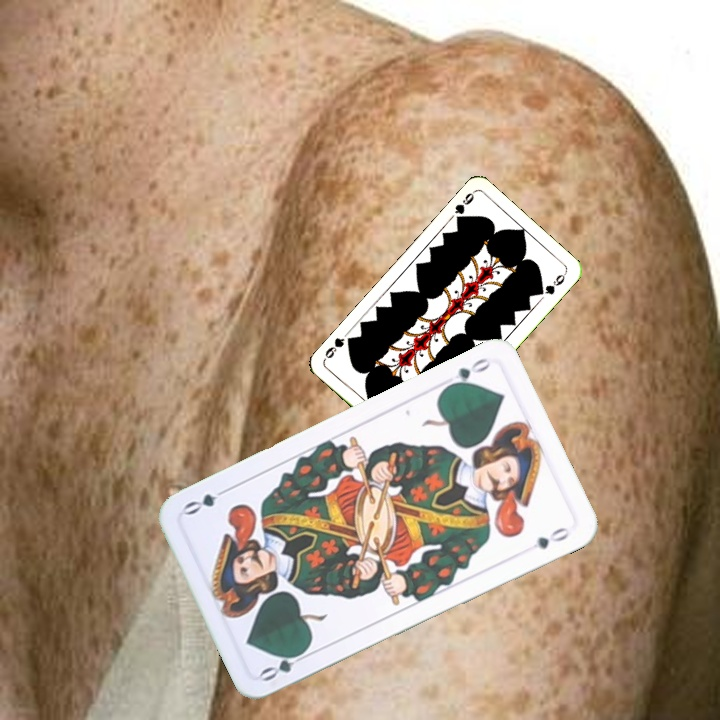G9: (450, 188, 477, 226)
GO: (256, 644, 313, 684), (437, 353, 494, 392)
